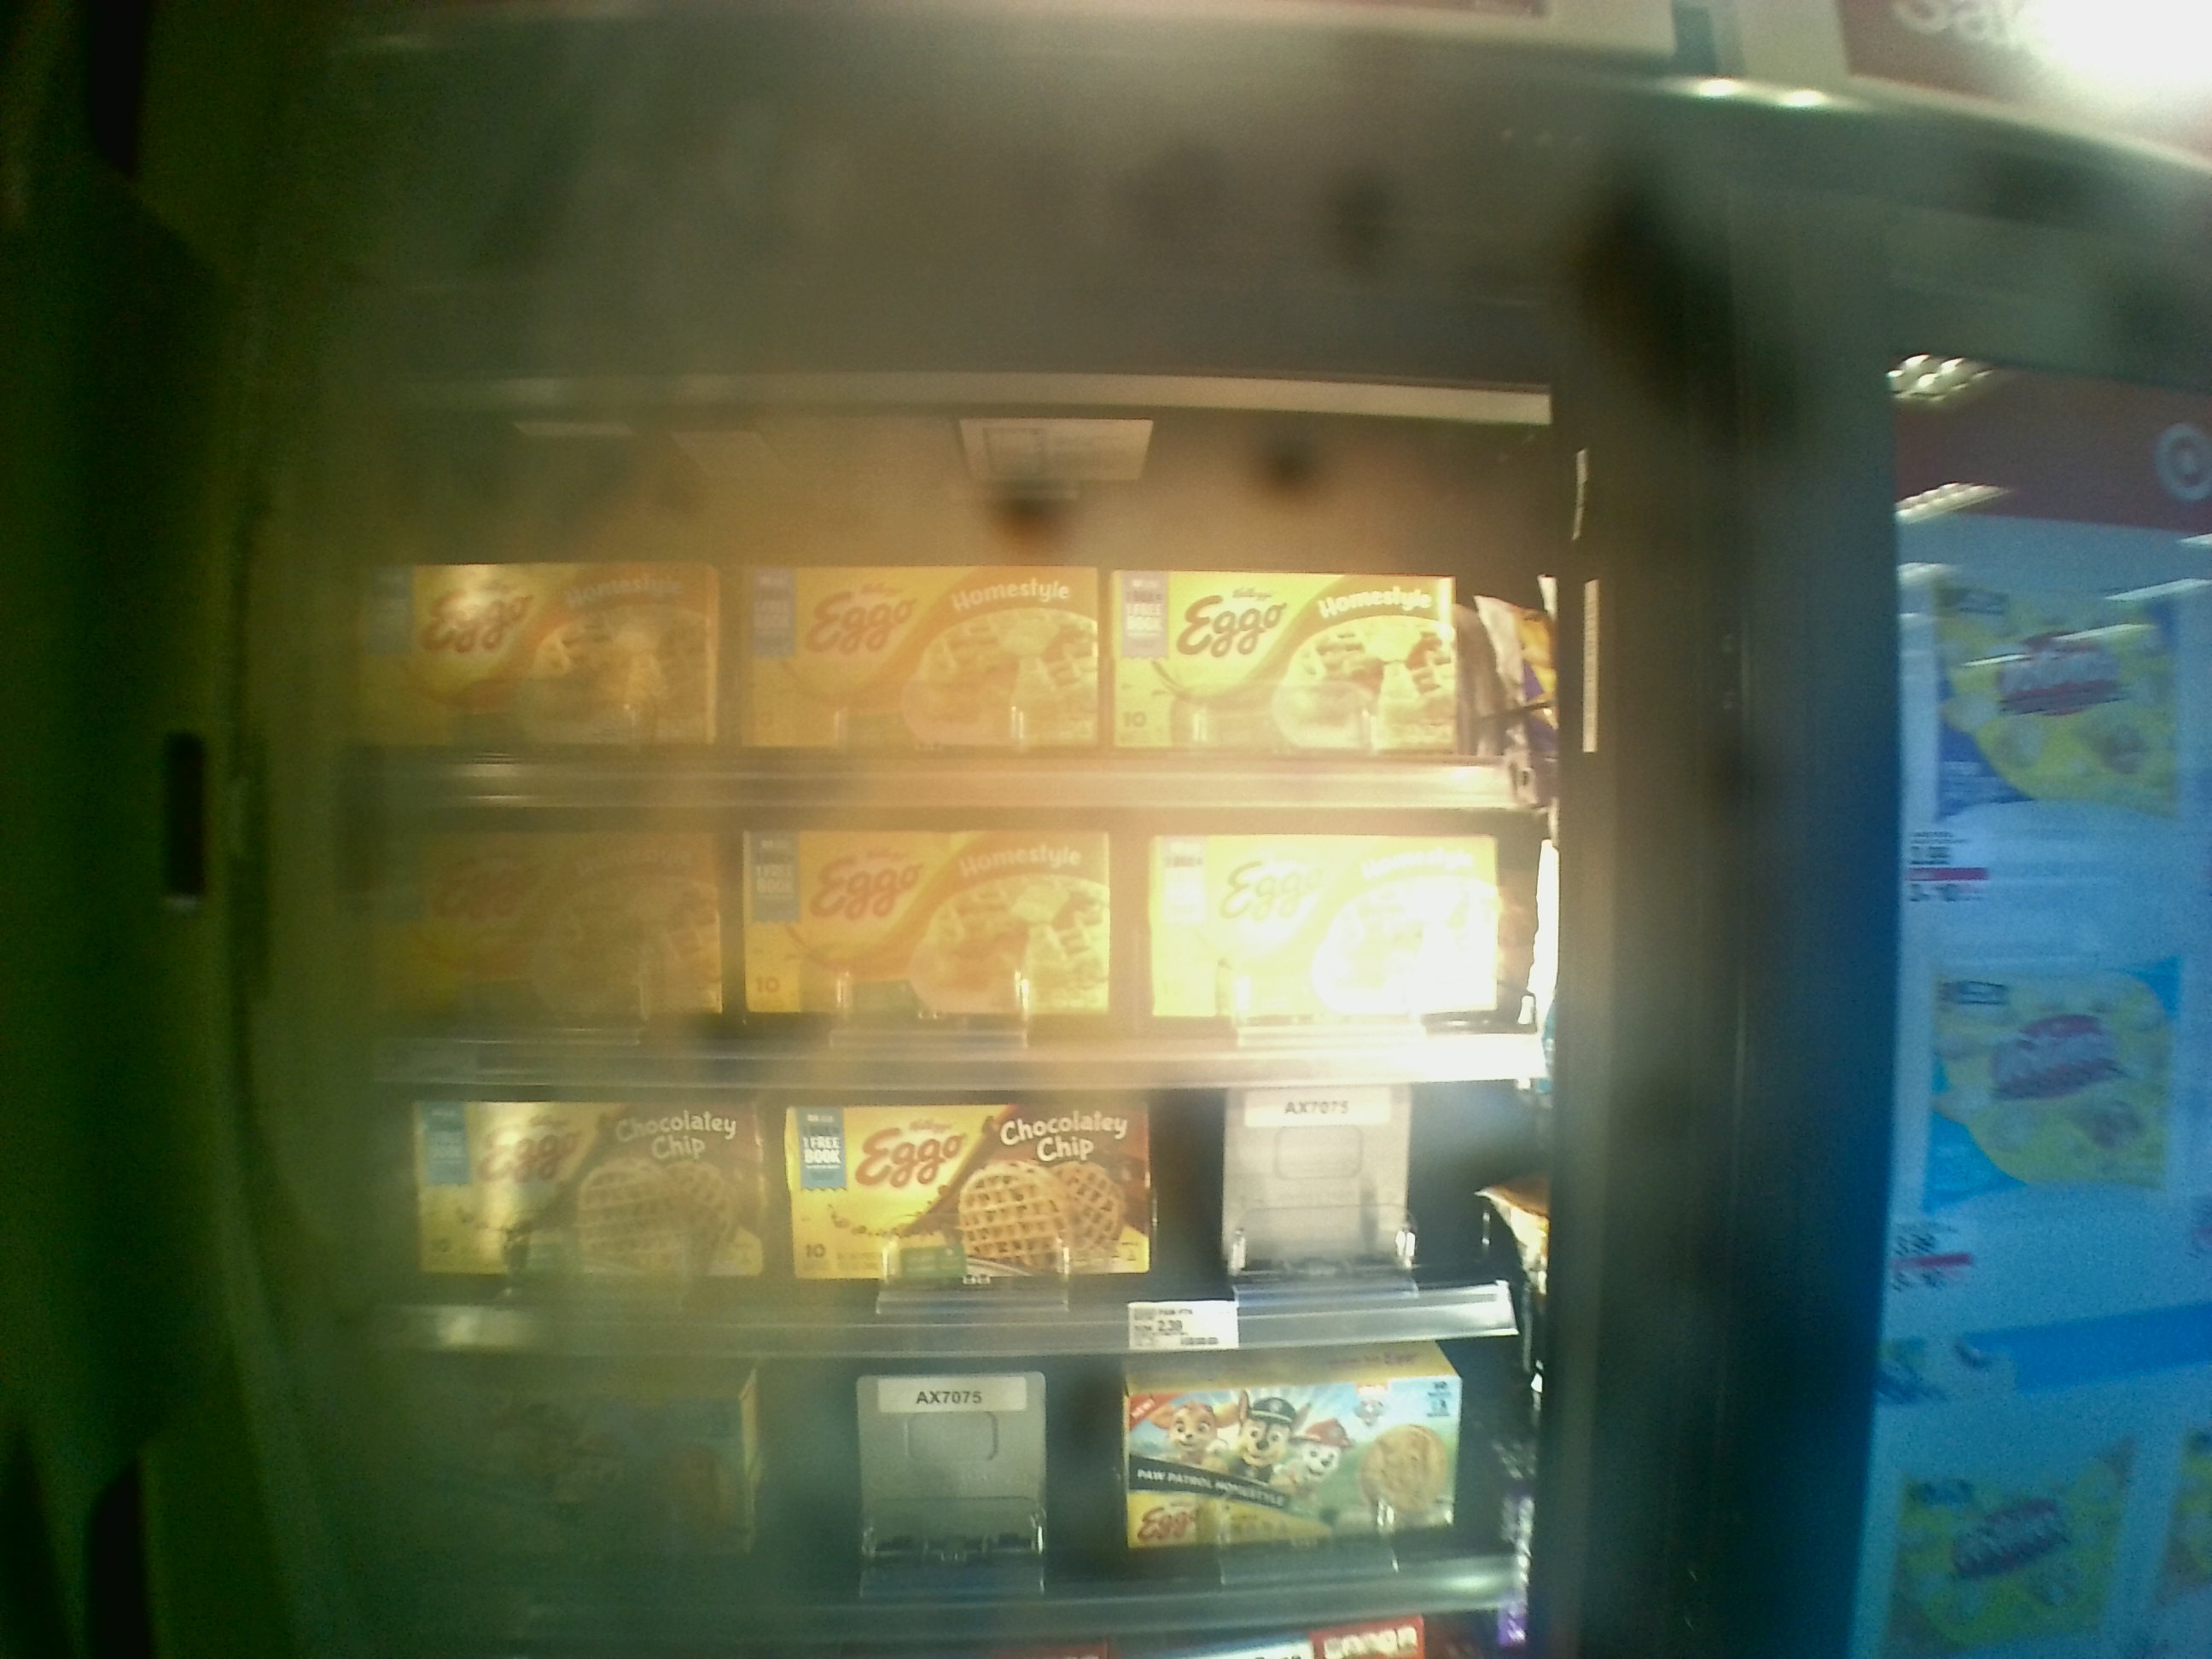shelf: (350, 369, 1543, 814), (357, 814, 1521, 1073), (373, 1079, 1529, 1335)
